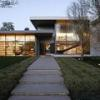stairs: (6, 67, 70, 97)
